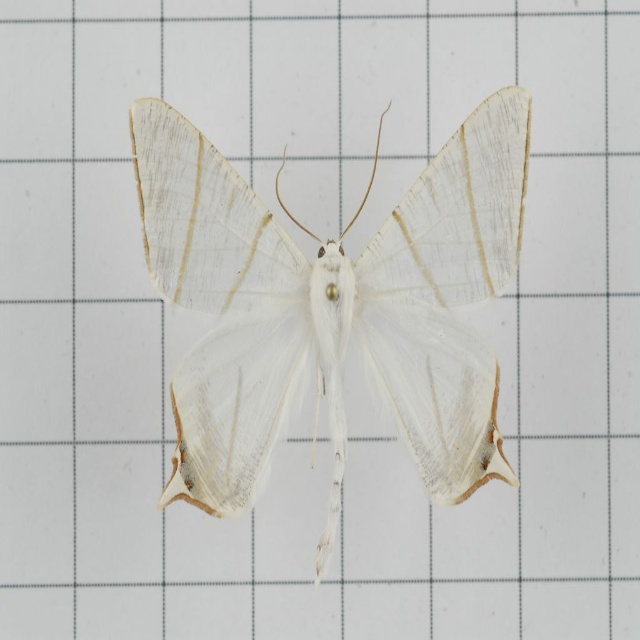Butterfly: (130, 83, 534, 585)
